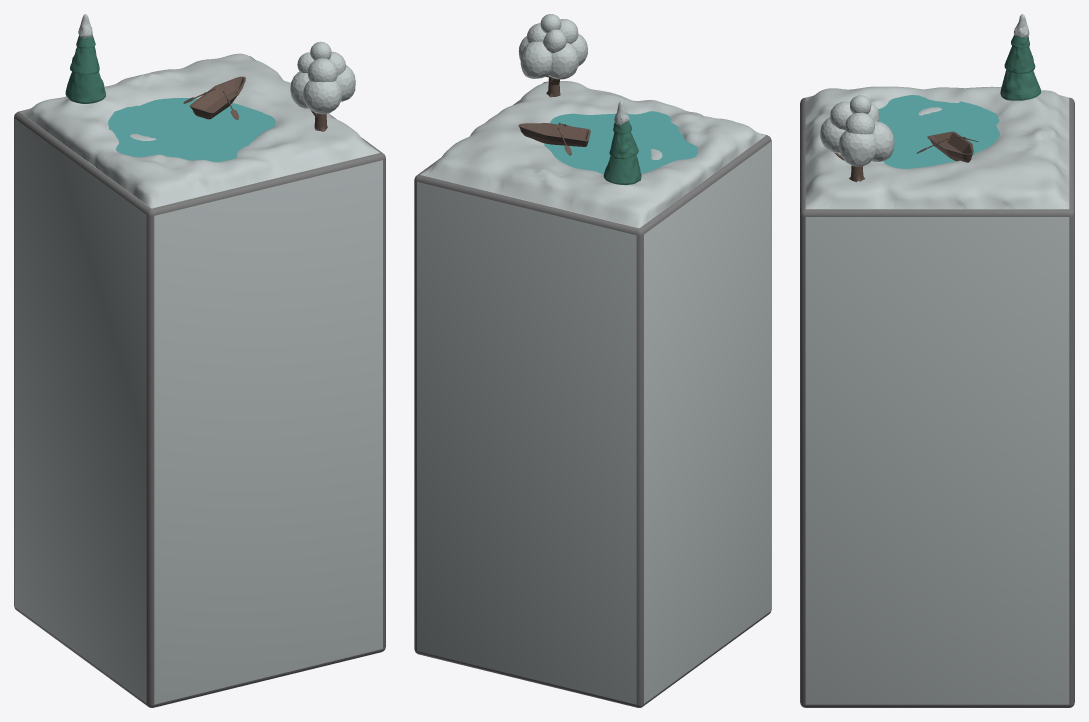
Rendered from tile5.fbx.
3 views of the same model, side by side, from view 1: azimuth 30°, elevation 25°; view 2: azimuth 150°, elevation 25°; view 3: azimuth 270°, elevation 25° (orthographic). The views are drawn at different scales.
Visible parts, largest first — view 1: Circle; view 2: Circle; view 3: Circle.
Boxes of the visible parts, left/top/right/bottom form: Circle: left=14, top=14, right=385, bottom=707; Circle: left=414, top=14, right=771, bottom=707; Circle: left=800, top=14, right=1074, bottom=707.
Size of the model in its own units: 200 by 484 by 200.
